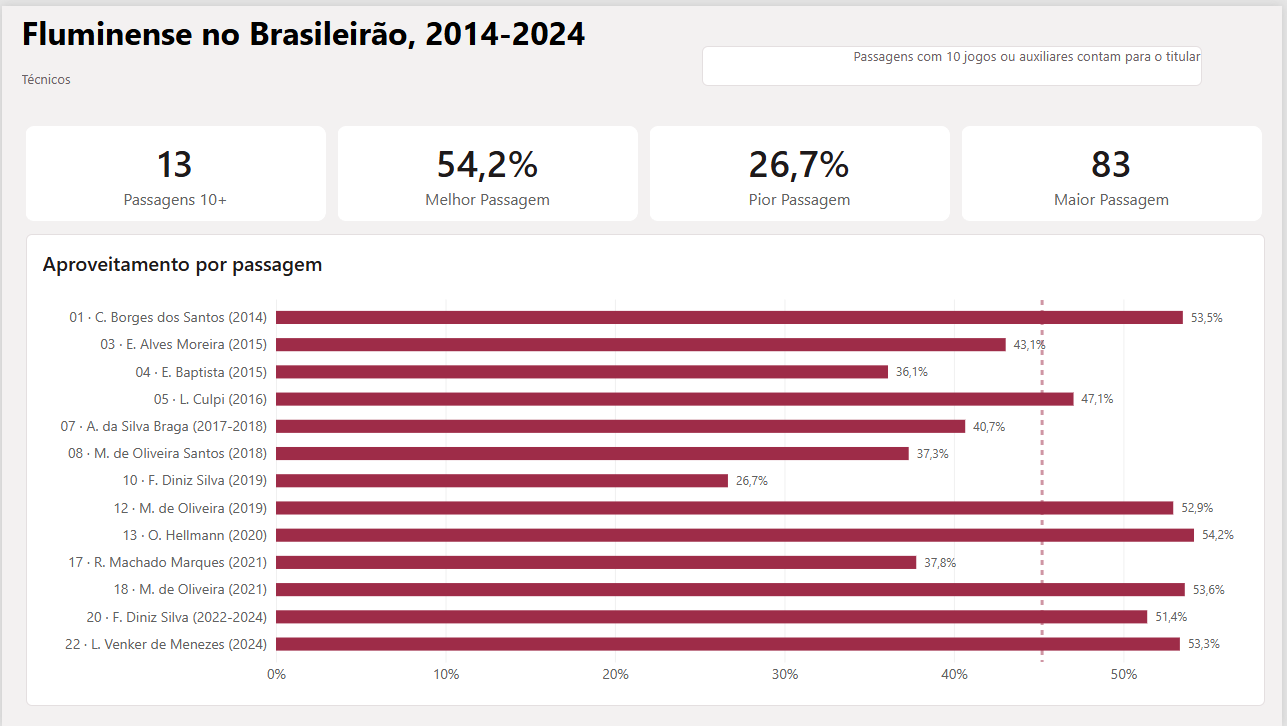

Layout of this report page (visuals, bound fields, positions):
{"tool":"powerbi","page":{"name":"Técnicos","canvas":[1280,720],"ordinal":1},"visuals":[{"type":"textbox","box":[16,0,640,112],"z":0},{"type":"textbox","box":[700,40,500,40],"z":1000},{"type":"cardVisual","fields":{"Data":["Medidas.Passagens 10+"]},"box":[24,120,300,95],"z":2000},{"type":"cardVisual","fields":{"Data":["Medidas.Melhor Passagem"]},"box":[336,120,300,95],"z":3000},{"type":"cardVisual","fields":{"Data":["Medidas.Pior Passagem"]},"box":[648,120,300,95],"z":4000},{"type":"cardVisual","fields":{"Data":["Medidas.Maior Passagem"]},"box":[960,120,300,95],"z":5000},{"type":"clusteredBarChart","title":"Aproveitamento  por passagem","fields":{"Category":["jogos.passagem_rotulo"],"Y":["Medidas.Aproveitamento"]},"box":[24,228,1239,472],"z":6000}]}

Visuals, with their boxes in screenshot pixels (x1, y1, x2, y2), scaled from the page's 1280x720 canvas onto the 1287x726 screenshot:
textbox: 16:0:660:113
textbox: 704:40:1207:81
cardVisual - Medidas.Passagens 10+: 24:121:326:217
cardVisual - Medidas.Melhor Passagem: 338:121:639:217
cardVisual - Medidas.Pior Passagem: 652:121:953:217
cardVisual - Medidas.Maior Passagem: 965:121:1267:217
"Aproveitamento  por passagem" clusteredBarChart: 24:230:1270:706
